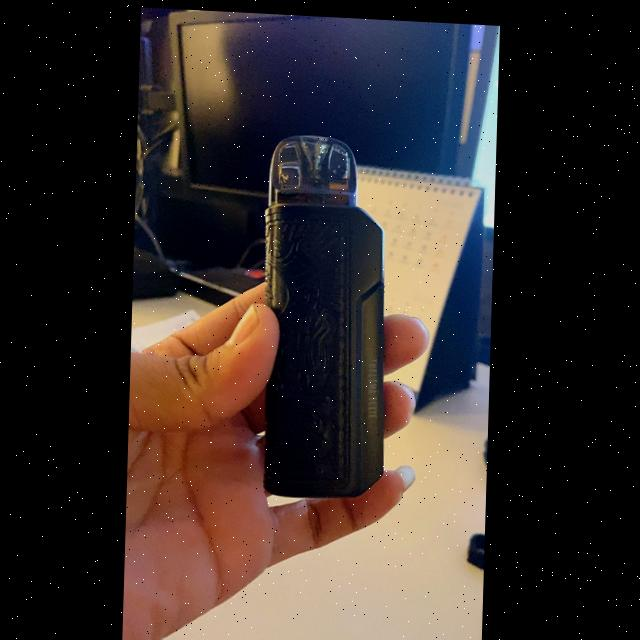vape: (258, 129, 394, 496)
